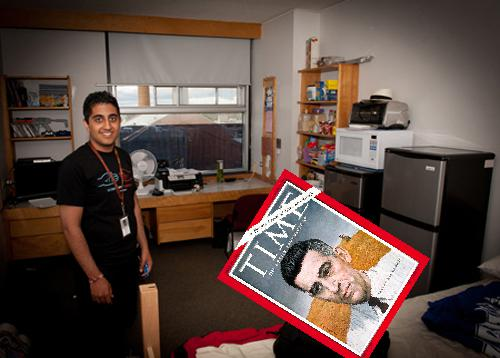times: (214, 166, 435, 357)
